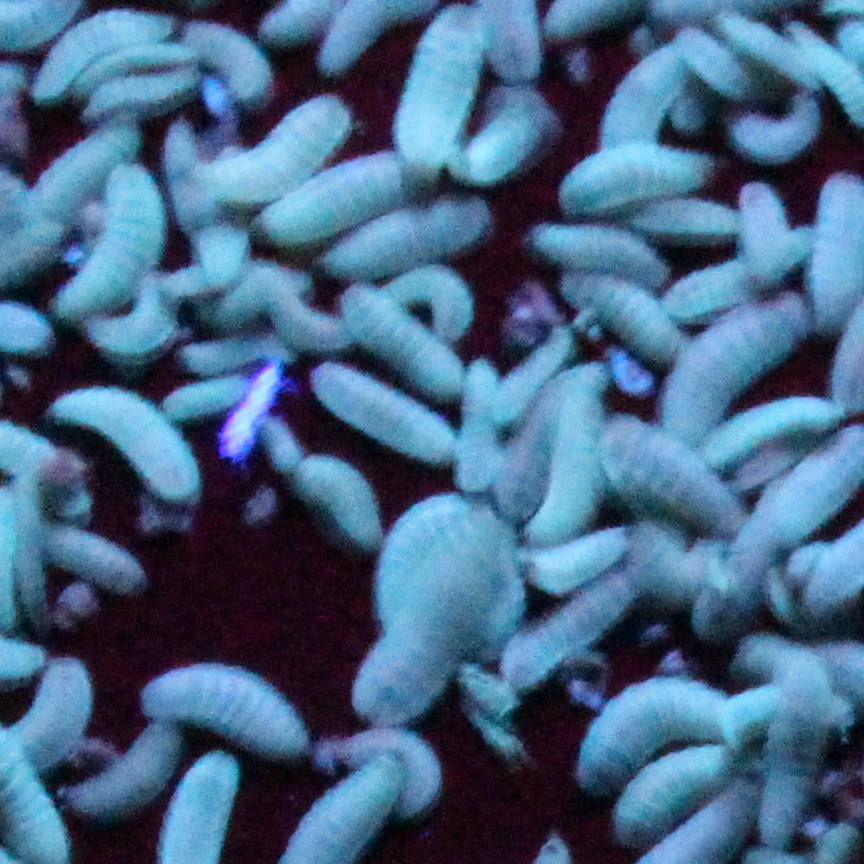larve: (363, 511, 493, 711), (669, 289, 814, 444), (47, 364, 200, 498), (54, 164, 173, 326), (138, 649, 318, 756), (578, 678, 731, 798), (262, 147, 438, 247), (202, 86, 358, 195), (525, 364, 616, 542), (754, 653, 836, 847), (602, 420, 742, 531), (325, 187, 483, 282), (502, 569, 640, 676), (313, 355, 454, 458), (342, 282, 460, 402), (556, 136, 733, 216), (609, 736, 733, 847), (33, 7, 178, 93), (371, 496, 458, 629), (553, 273, 687, 358), (329, 718, 445, 811), (33, 120, 140, 220), (696, 391, 836, 467), (287, 449, 391, 549), (25, 516, 160, 593), (64, 722, 180, 809), (609, 40, 689, 166), (522, 218, 667, 287), (471, 67, 549, 187), (723, 13, 822, 95), (189, 16, 276, 100), (383, 264, 480, 335), (493, 329, 567, 422), (676, 29, 769, 102), (734, 169, 793, 282), (723, 98, 827, 162), (631, 195, 742, 244), (169, 376, 247, 427), (460, 356, 489, 486), (187, 333, 294, 367), (260, 416, 305, 467)
